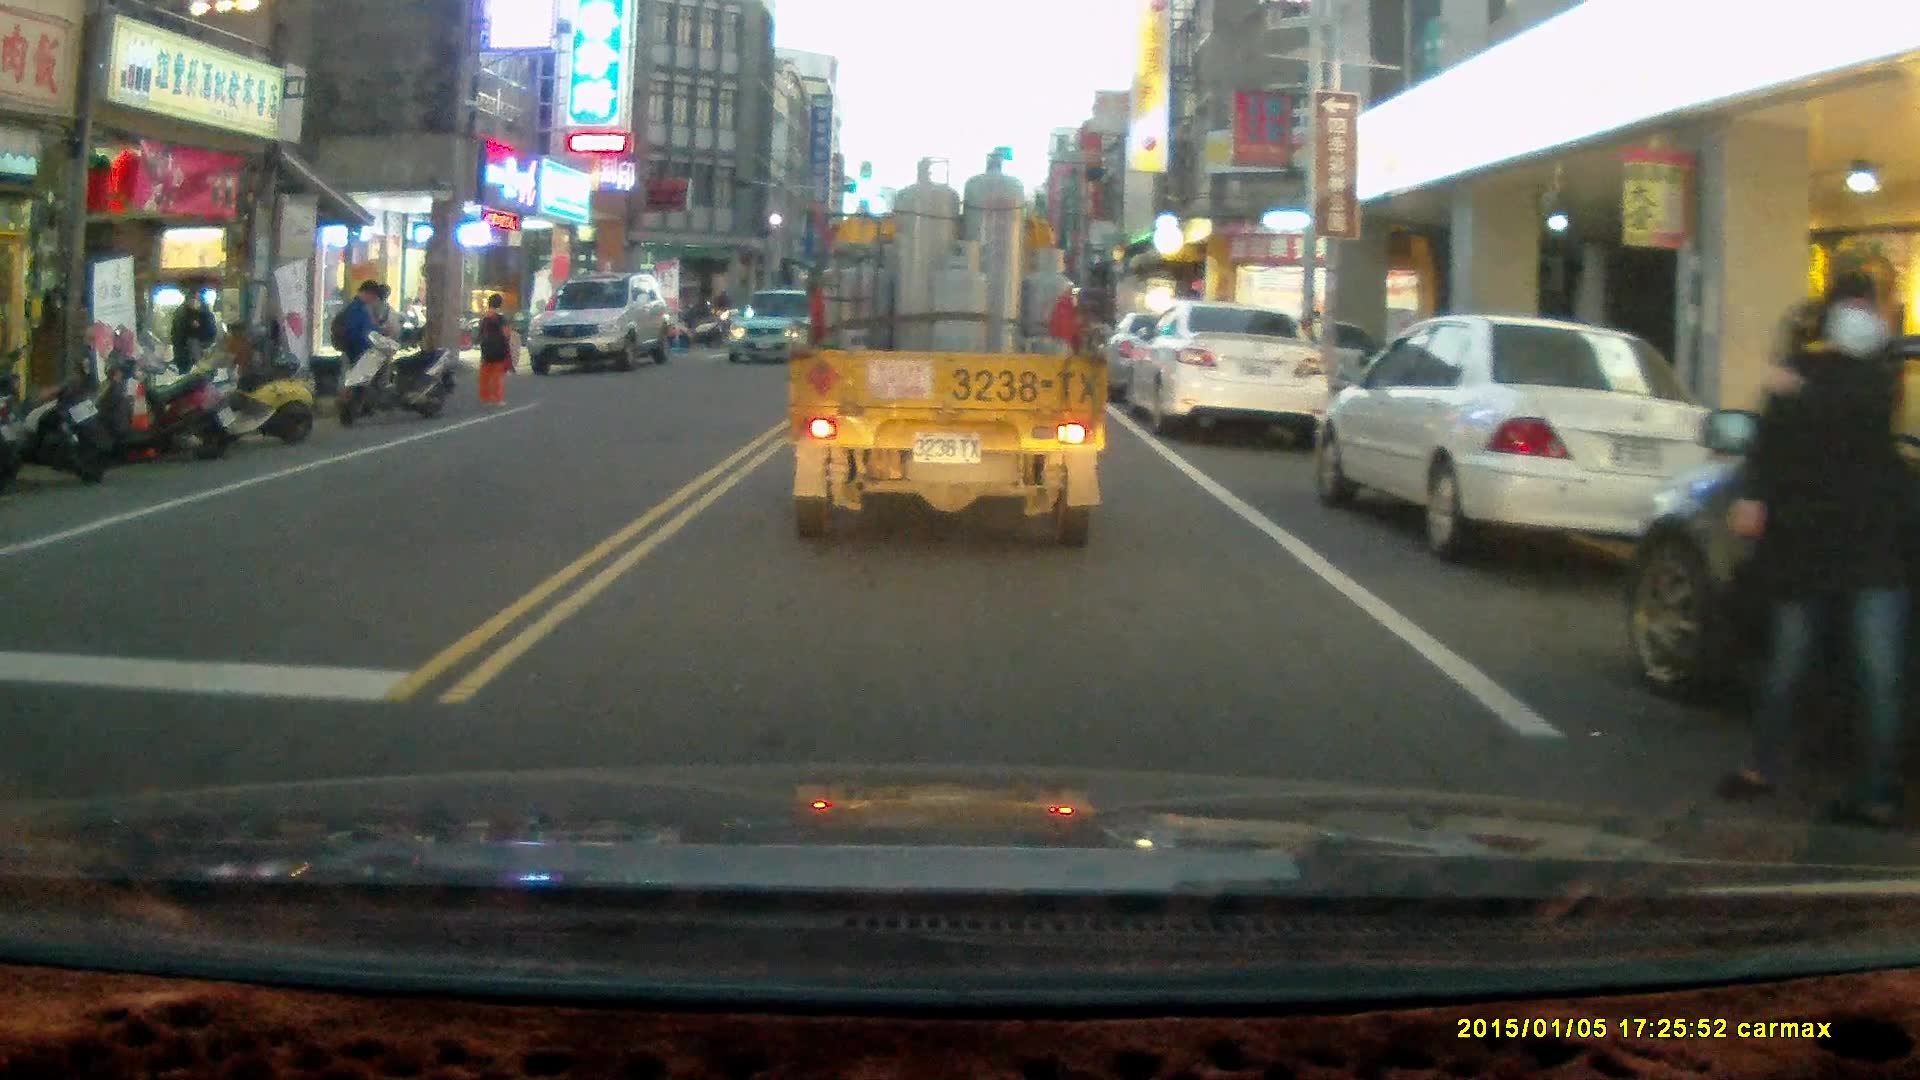pedestrian: (1712, 267, 1903, 839), (320, 278, 376, 415), (167, 285, 212, 426), (474, 292, 518, 411)
vehicle: (1622, 337, 1920, 799), (782, 154, 1112, 548), (1309, 313, 1746, 564), (1131, 304, 1325, 436), (530, 275, 680, 372), (725, 290, 828, 370)
